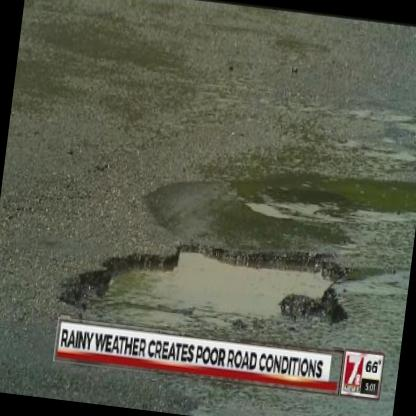pothole: (58, 222, 356, 353)
